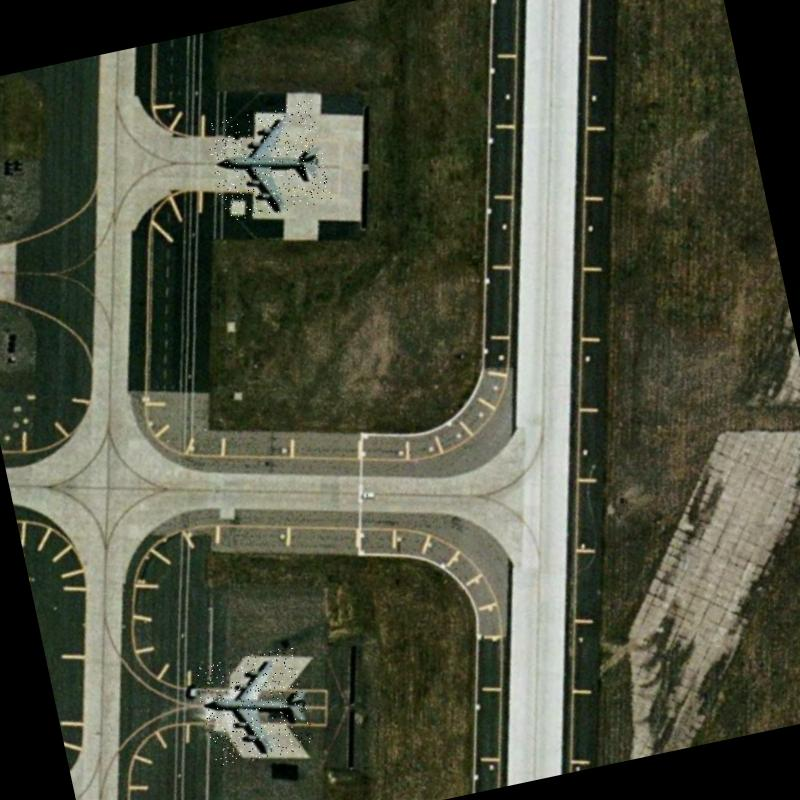A14: (204, 100, 333, 224), (193, 646, 315, 768)
